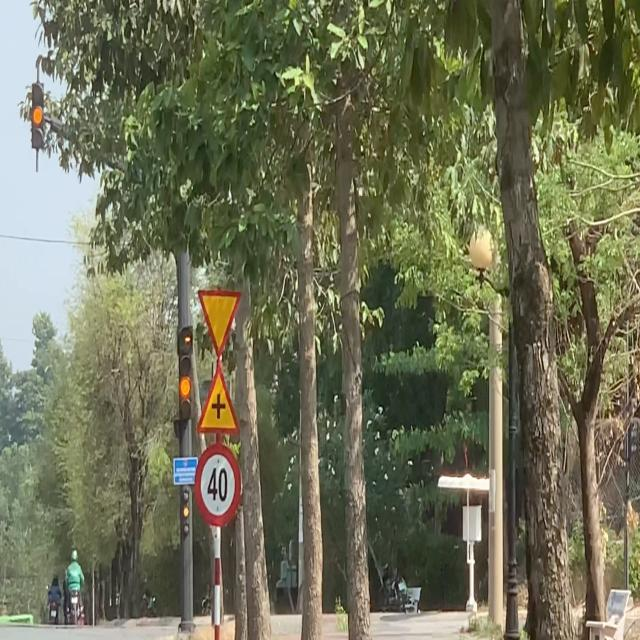Duong giao nhau: (195, 357, 243, 438)
Giao voi duong uu tien: (195, 283, 242, 362)
Toc do toi da: (195, 443, 241, 528)
